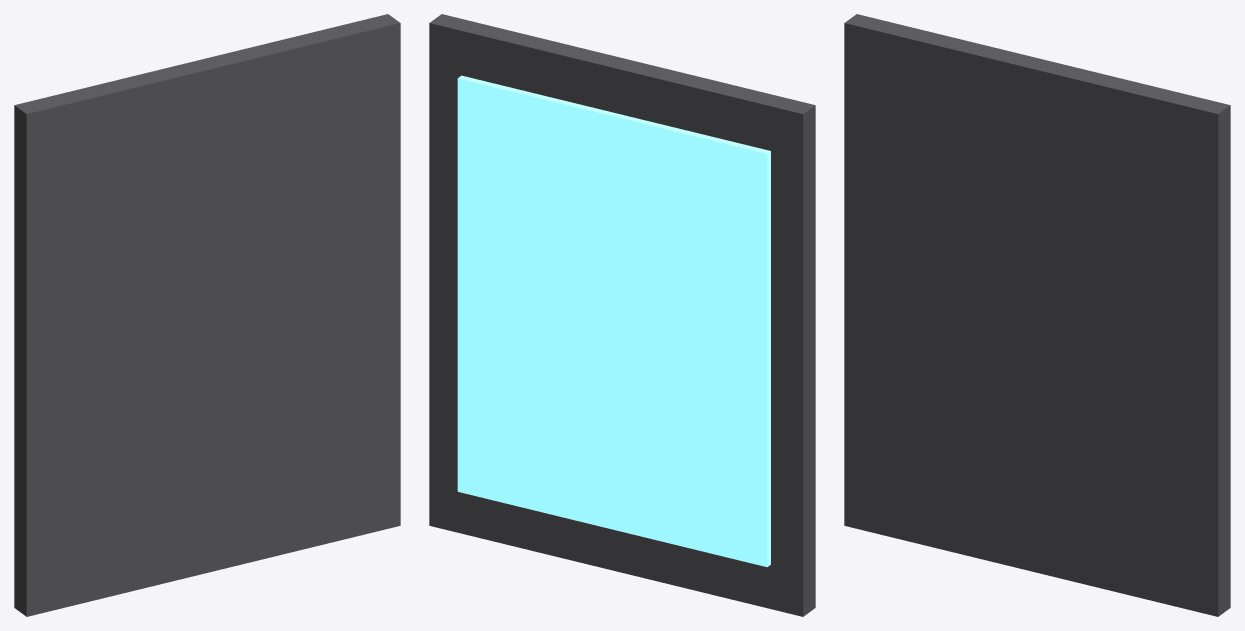
The model's file is directory-board.glb.
The picture shows the model from 3 angles, left to right: view 1: azimuth 30°, elevation 25°; view 2: azimuth 150°, elevation 25°; view 3: azimuth 330°, elevation 25°; orthographic projection.
Visible parts, largest first — view 1: Directory; view 2: Directory; view 3: Directory.
Boxes of the visible parts, box(x1,y1,x2,y2) form: Directory: box(14, 14, 400, 616); Directory: box(429, 14, 815, 616); Directory: box(844, 14, 1230, 616).
Size of the model in its own units: 0.7 by 0.9 by 0.0525.
